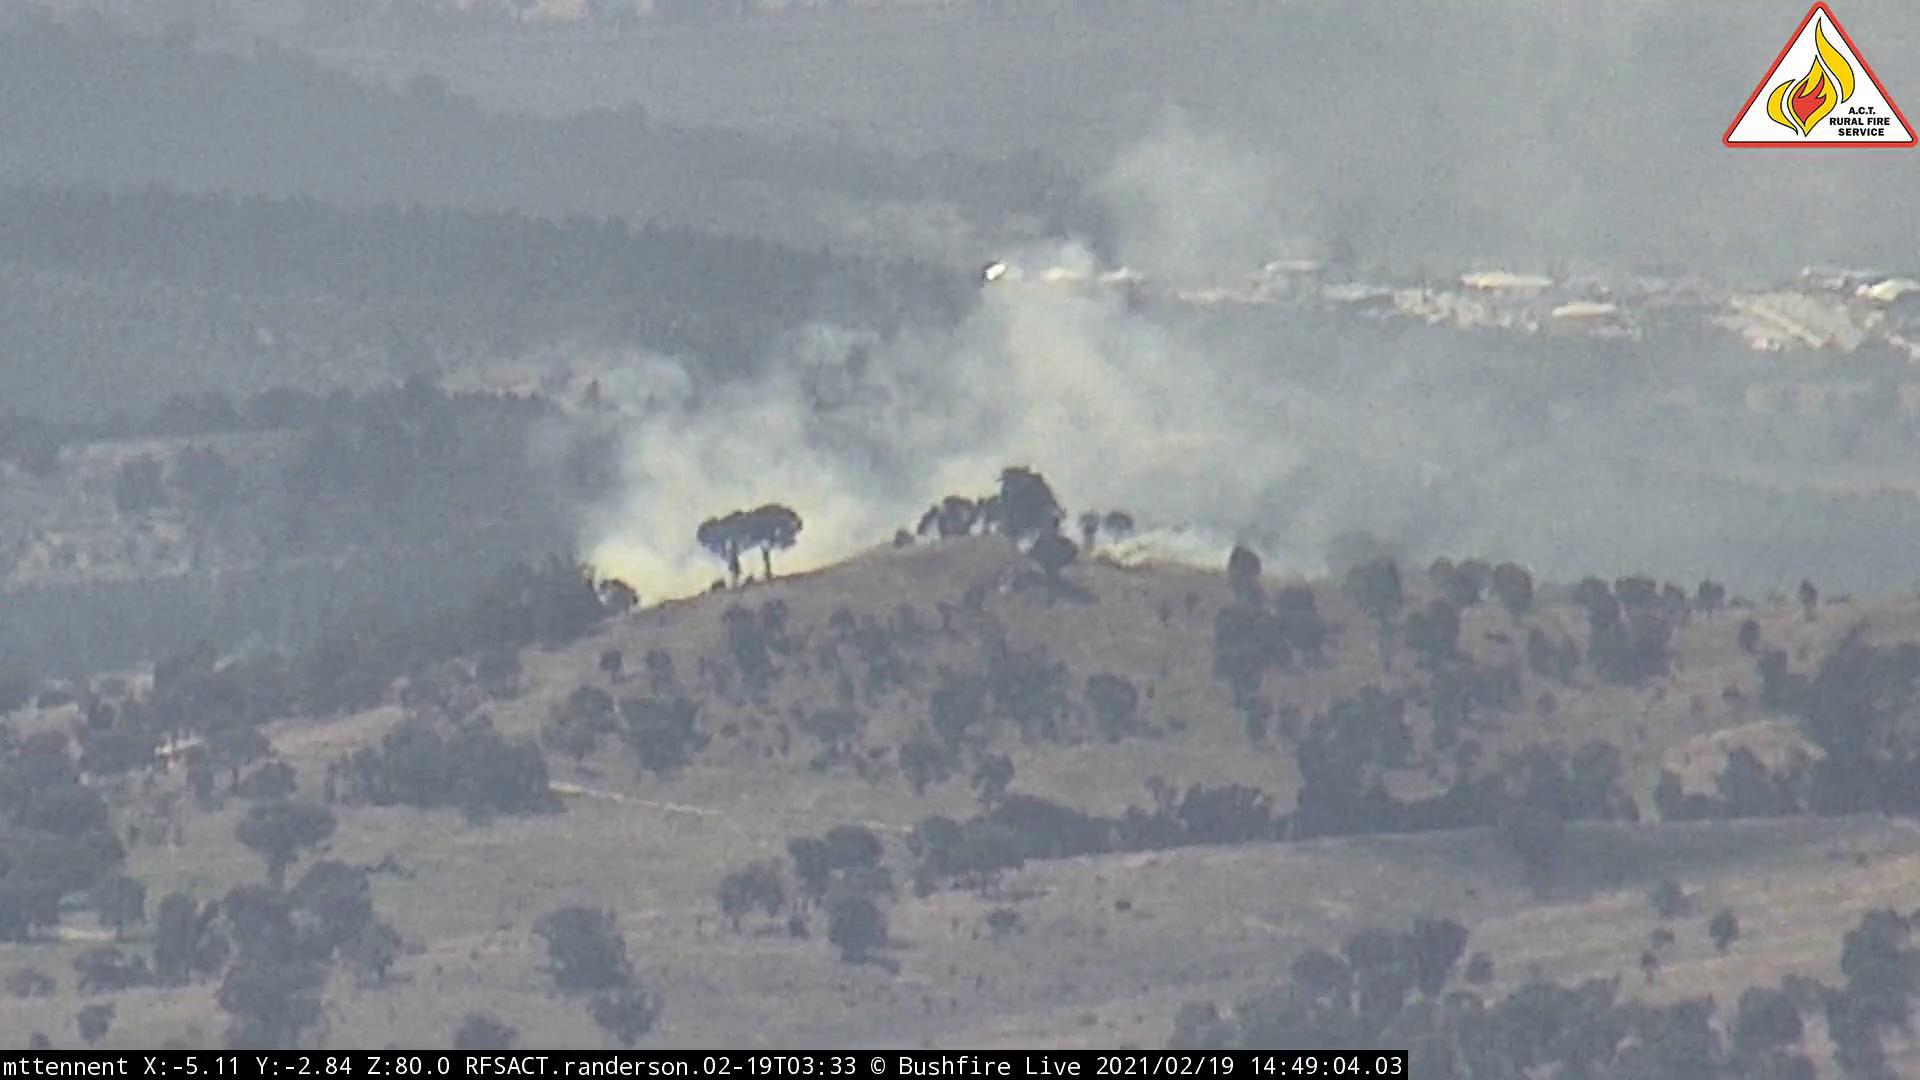instance_salient_object: (592, 102, 1478, 616)
